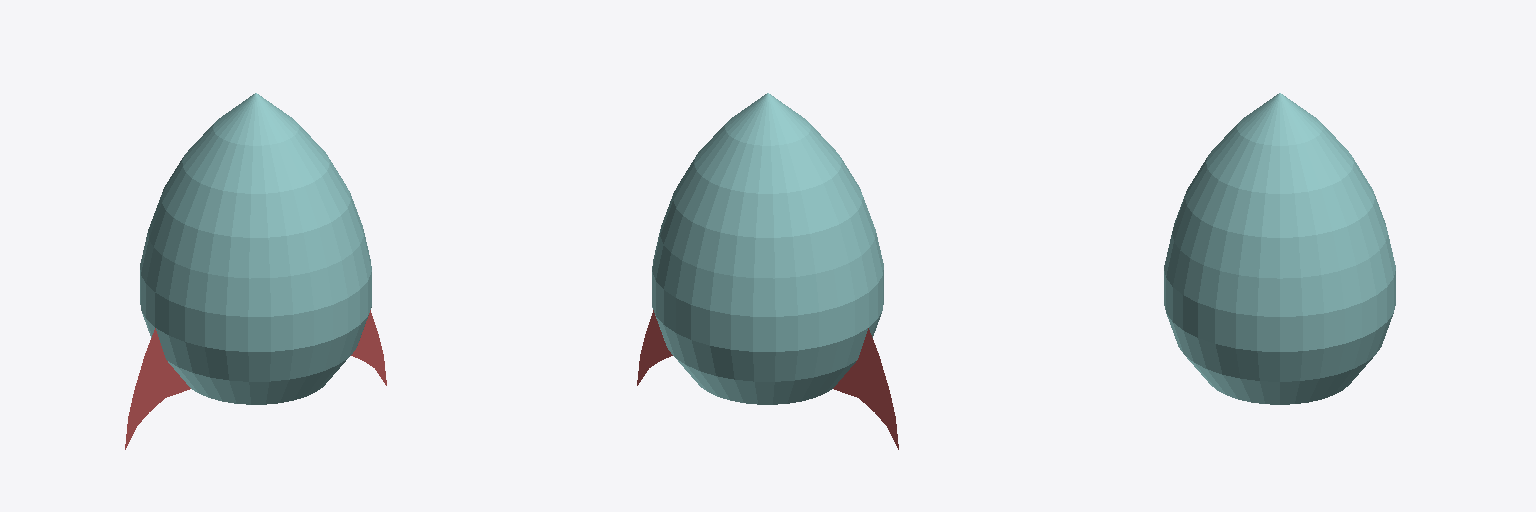
The model's file is rocket_2.obj.
3 views of the same model, side by side, from view 1: azimuth 30°, elevation 25°; view 2: azimuth 150°, elevation 25°; view 3: azimuth 270°, elevation 25° (orthographic).
Visible parts, largest first — view 1: Rocket_Rocket_Material, Wing_Wing_Material; view 2: Rocket_Rocket_Material, Wing_Wing_Material; view 3: Rocket_Rocket_Material.
Part boxes in pixels (left/top/right/bottom): Rocket_Rocket_Material: left=140, top=93, right=371, bottom=404; Wing_Wing_Material: left=125, top=310, right=386, bottom=449; Rocket_Rocket_Material: left=652, top=93, right=883, bottom=404; Wing_Wing_Material: left=637, top=310, right=898, bottom=449; Rocket_Rocket_Material: left=1164, top=93, right=1395, bottom=404.
Size of the model in its own units: 2.61 by 3.1 by 2.